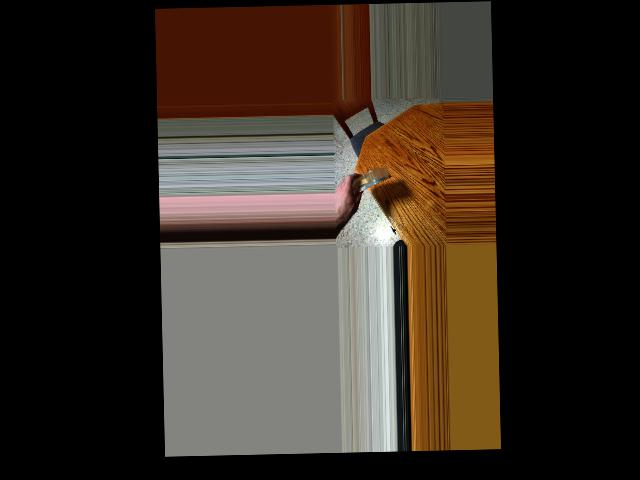cheese: (346, 166, 393, 192)
